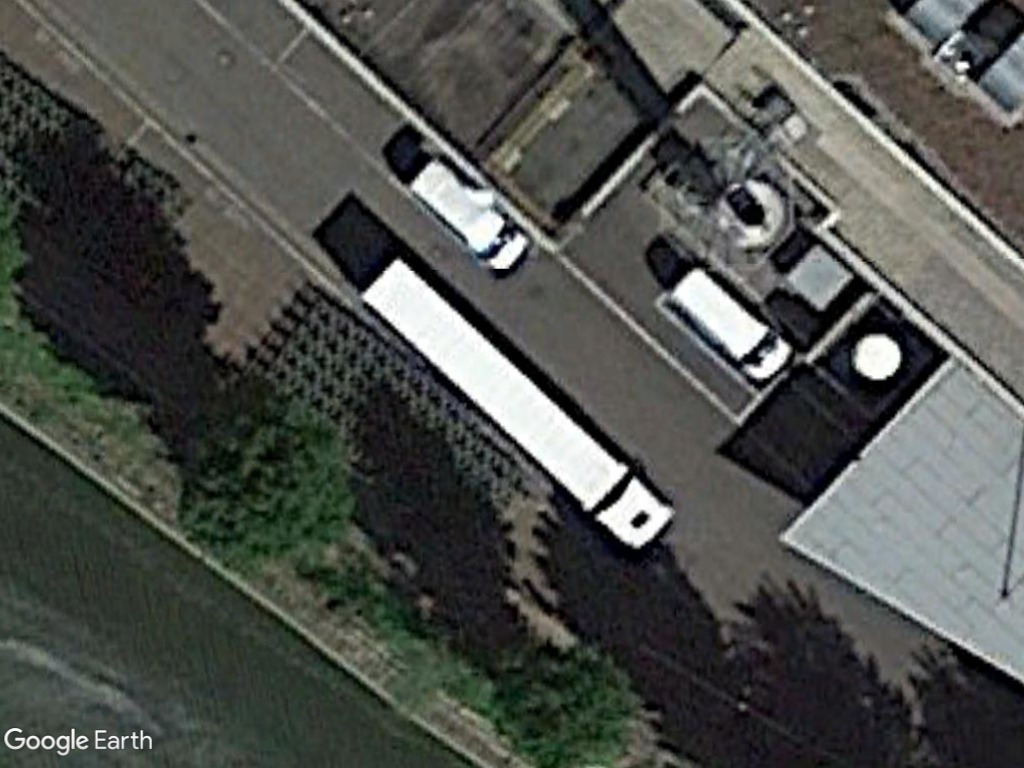longvehicle: (352, 247, 683, 560)
van: (405, 148, 530, 278), (663, 259, 792, 383)
